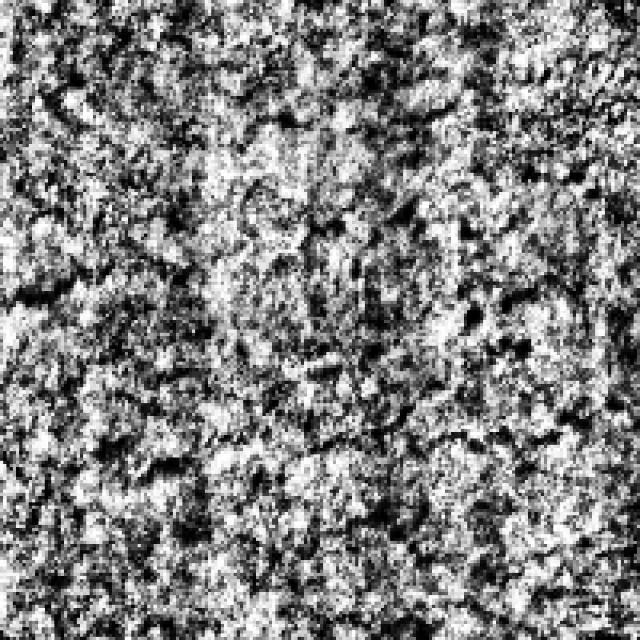Pitted_Surface: (29, 167, 630, 310), (99, 406, 573, 580), (36, 28, 487, 150)
